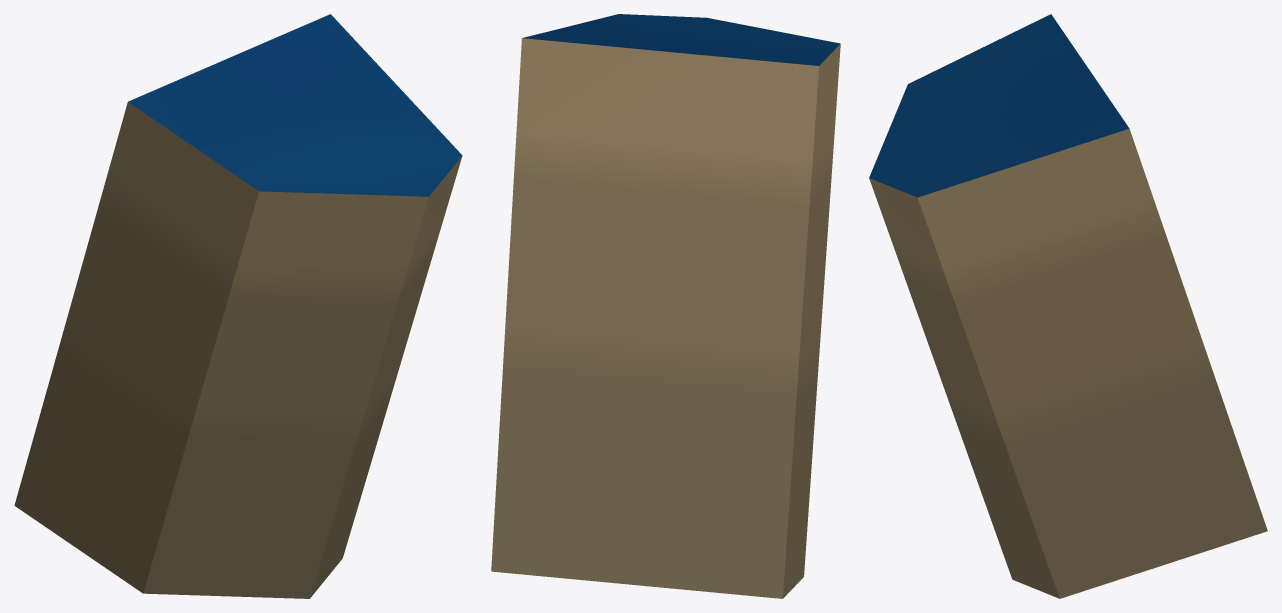
File: 0601_Samoa.glb
3 renders of one model, left to right at view 1: azimuth 30°, elevation 25°; view 2: azimuth 150°, elevation 25°; view 3: azimuth 270°, elevation 25°, orthographic. The views are drawn at different scales.
Parts seen in each view (by area): view 1: part_0; view 2: part_0; view 3: part_0.
Boxes of the visible parts, bbox=[...] form: part_0: bbox=[14, 14, 462, 598]; part_0: bbox=[491, 14, 840, 598]; part_0: bbox=[869, 14, 1267, 598].
Size of the model in its own units: 0.1349 by 0.2218 by 0.1632.
Materials: 1 (1 with a texture image).
